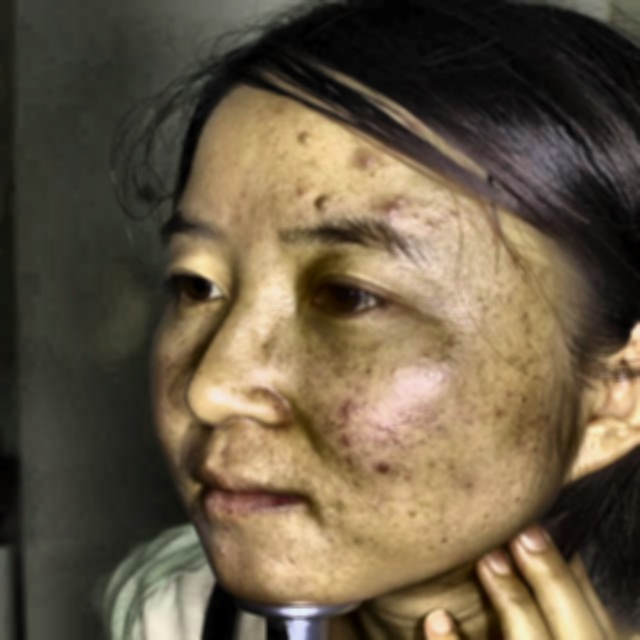comedone: (372, 452, 399, 484), (347, 152, 388, 172), (385, 200, 415, 221)
